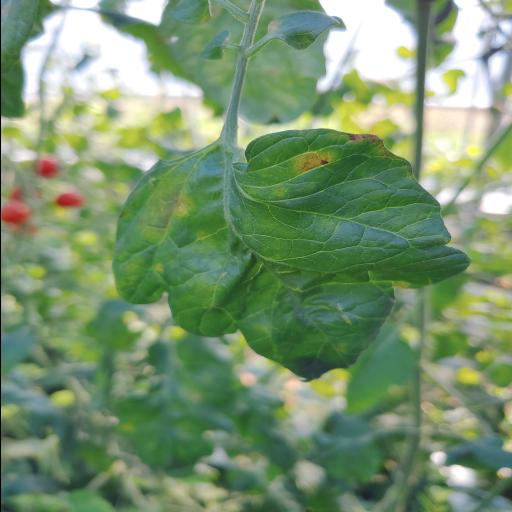disease_tomato: (114, 130, 470, 382)
